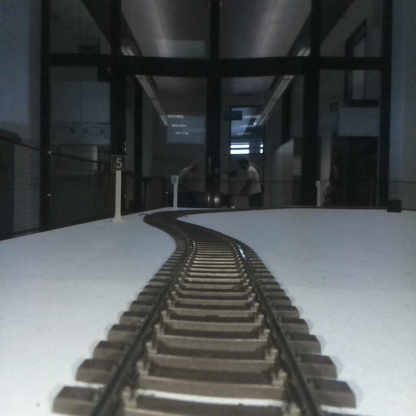black-info-5: (112, 155, 126, 219)
white-info-6: (171, 174, 178, 209)
